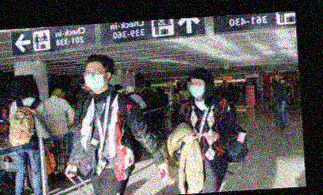with_mask: (84, 68, 105, 91), (188, 79, 205, 99)
without_mask: (273, 75, 279, 80)
